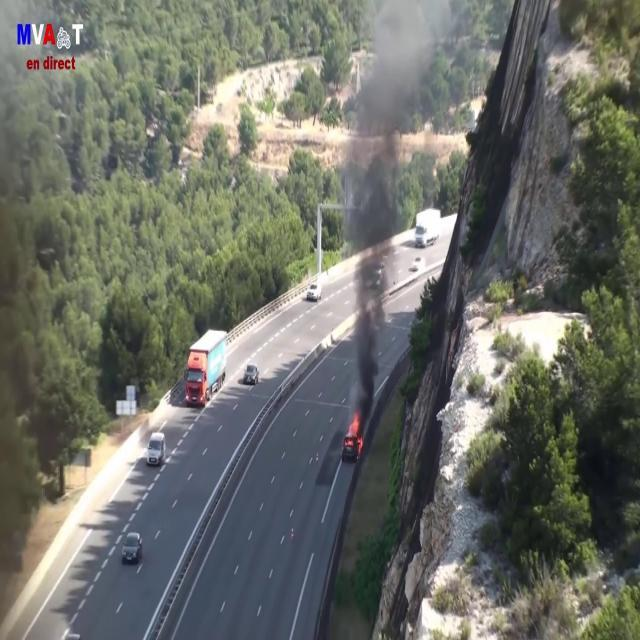Fire: (345, 407, 363, 454)
Smoke: (340, 3, 428, 402)
